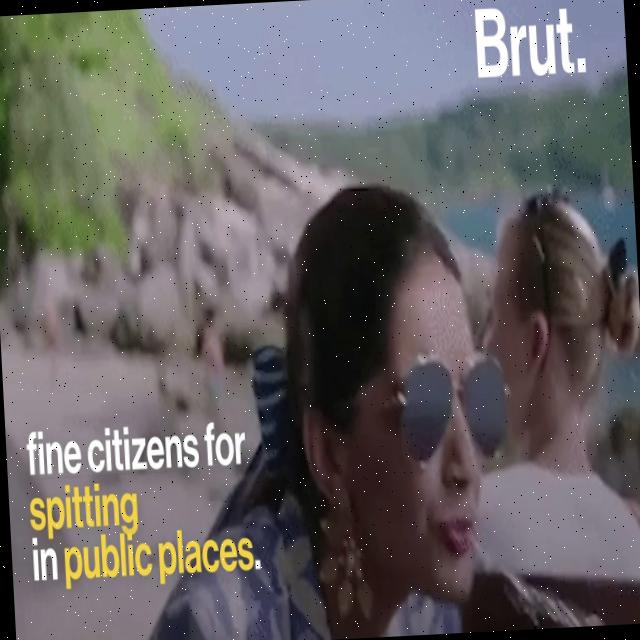spit: (396, 458, 636, 636)
